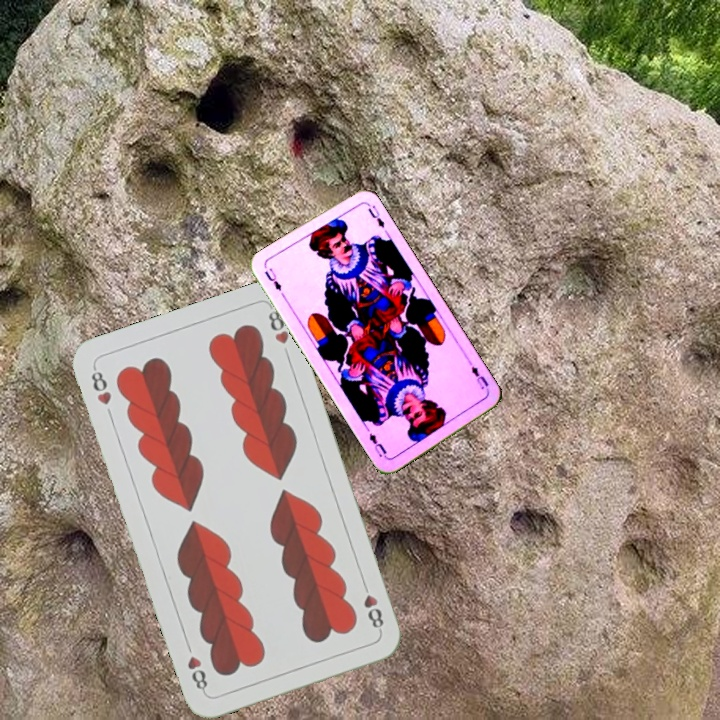EU: (465, 358, 492, 394), (260, 264, 284, 294)
H8: (358, 577, 387, 635), (87, 363, 114, 408)
